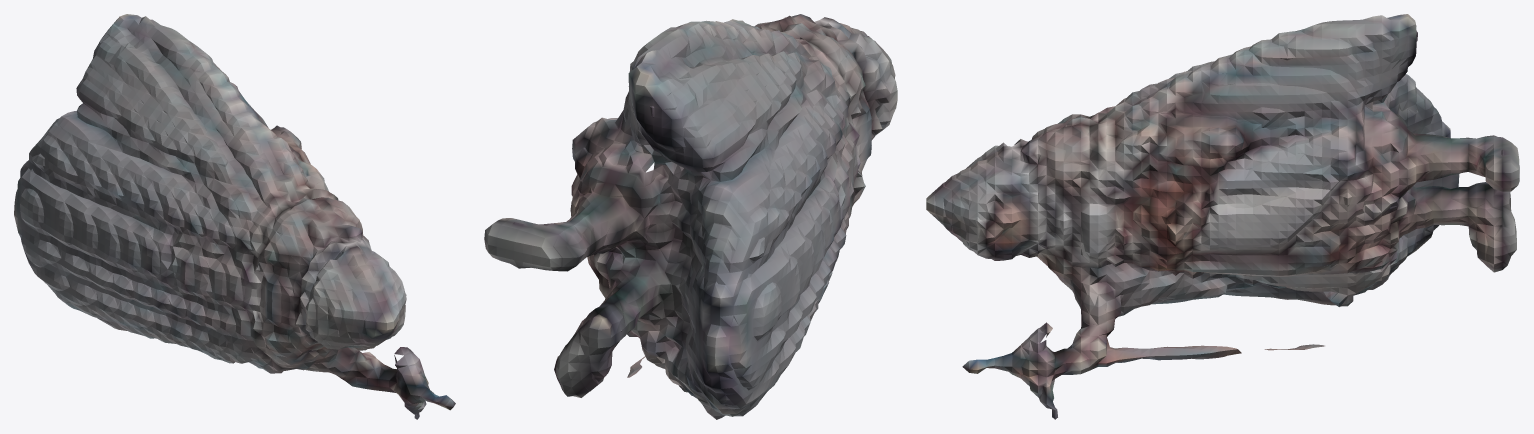
The model's file is medieval_warrior_f_0.glb.
3 renders of one model, left to right at view 1: azimuth 30°, elevation 25°; view 2: azimuth 150°, elevation 25°; view 3: azimuth 270°, elevation 25°, orthographic. The views are drawn at different scales.
Parts seen in each view (by area): view 1: world; view 2: world; view 3: world.
Part boxes in pixels (left/top/right/bottom): world: left=14, top=14, right=455, bottom=419; world: left=484, top=14, right=897, bottom=419; world: left=926, top=14, right=1519, bottom=419.
Bounding box in the file's own units: 0.4593 × 0.6025 × 0.9448.
